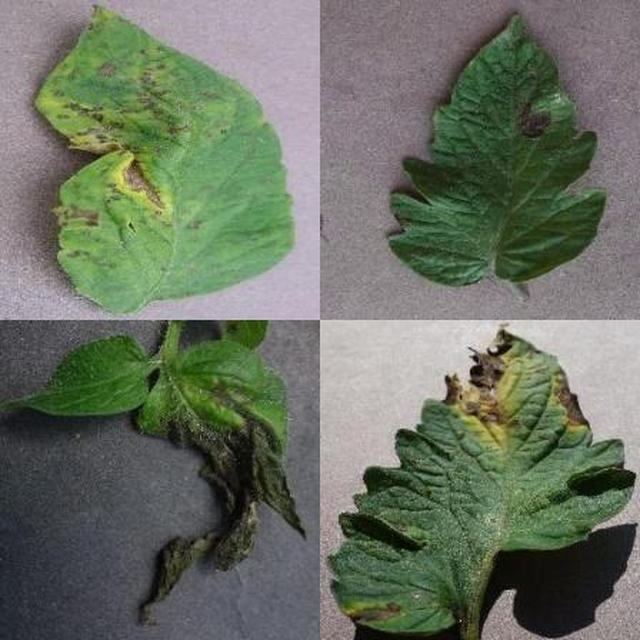Septoria Leaf: (113, 121, 640, 640)
